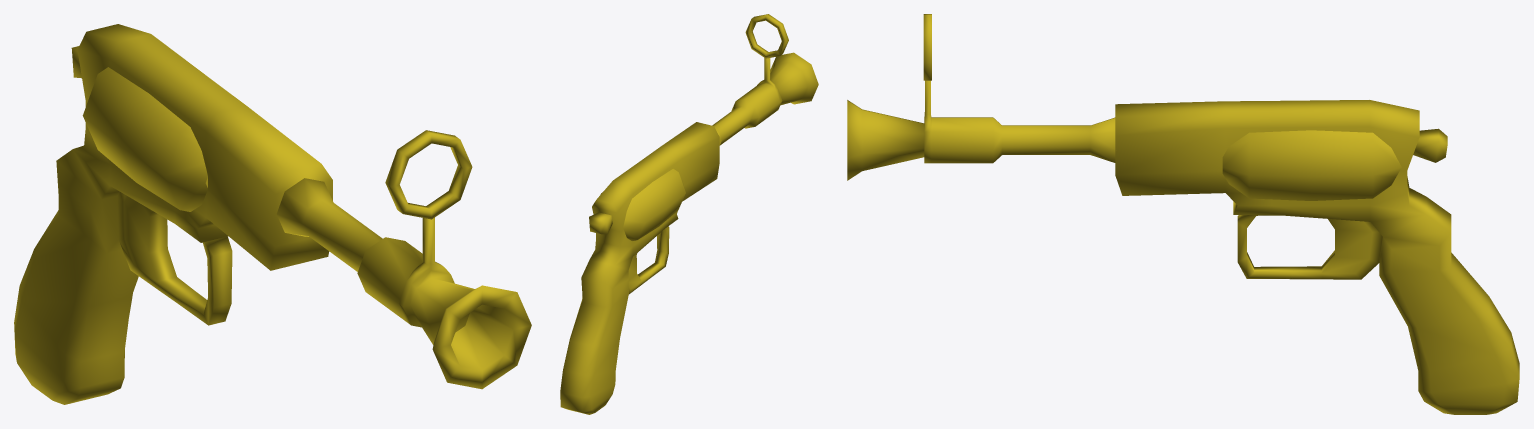
File: base_pistol.fbx
3 views of the same model, side by side, from view 1: azimuth 30°, elevation 25°; view 2: azimuth 150°, elevation 25°; view 3: azimuth 270°, elevation 25° (orthographic). The views are drawn at different scales.
Visible parts, largest first — view 1: Pistol_LP; view 2: Pistol_LP; view 3: Pistol_LP.
Part boxes in pixels (<box>): Pistol_LP: <box>14,24,531,404</box>; Pistol_LP: <box>560,14,818,414</box>; Pistol_LP: <box>847,14,1519,414</box>.
Size of the model in its own units: 5.46 by 38.78 by 24.84.
